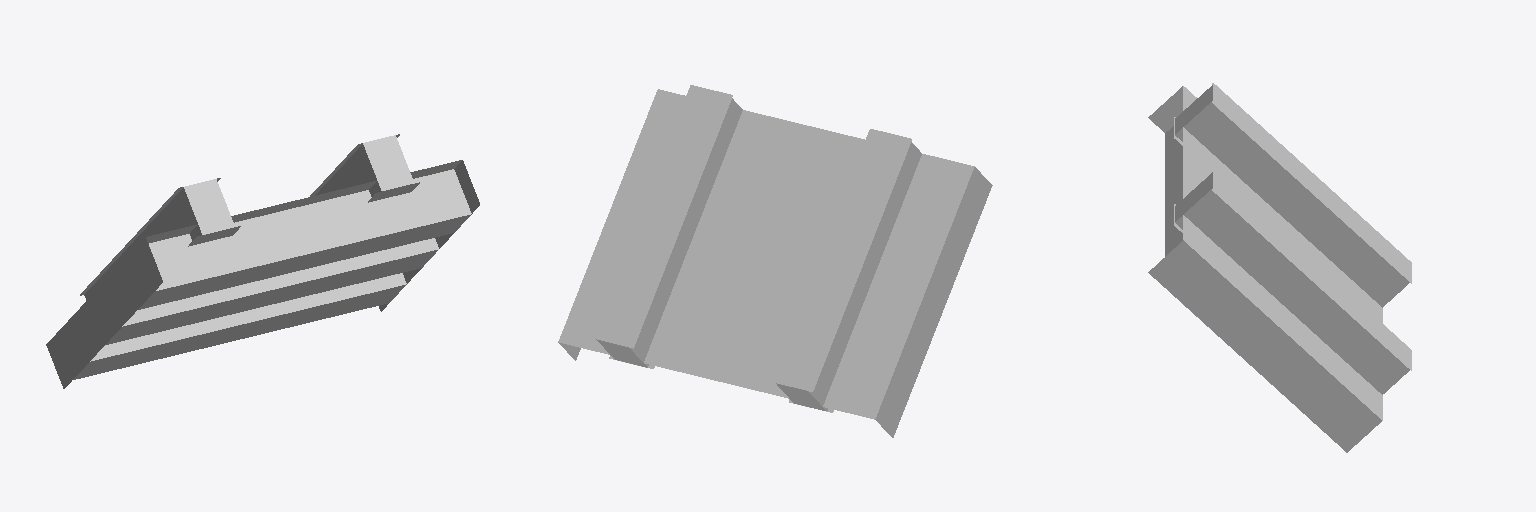
Rendered from ascending.obj.
3 renders of one model, left to right at view 1: azimuth 30°, elevation 25°; view 2: azimuth 150°, elevation 25°; view 3: azimuth 270°, elevation 25°, orthographic.
Visible parts, largest first — view 1: cube5, cube4, cube2, cube1, cube3, cube6, rail5, rail3, cube9, cube7, cube8, cube12; view 2: cube7, rail2, rail4, cube9, cube8, cube10, cube12, cube11, rail5, rail3; view 3: rail3, rail5, cube12, cube10, cube11, rail4, rail2, cube9, cube4, cube8, cube7, cube5.
Part boxes in pixels (bbox=[...]): cube5: bbox=[296, 169, 471, 270]; cube4: bbox=[138, 208, 312, 309]; cube2: bbox=[231, 273, 406, 341]; cube1: bbox=[265, 238, 438, 305]; cube3: bbox=[106, 277, 280, 344]; cube6: bbox=[73, 312, 247, 379]; rail5: bbox=[84, 179, 234, 300]; rail3: bbox=[315, 135, 414, 196]; cube9: bbox=[113, 199, 302, 318]; cube7: bbox=[46, 310, 97, 388]; cube8: bbox=[79, 273, 129, 351]; cube12: bbox=[297, 160, 479, 241]; cube7: bbox=[717, 293, 926, 437]; rail2: bbox=[591, 85, 732, 348]; rail4: bbox=[771, 129, 911, 391]; cube9: bbox=[784, 128, 992, 269]; cube8: bbox=[749, 210, 959, 350]; cube10: bbox=[558, 254, 750, 380]; cube12: bbox=[623, 89, 815, 212]; cube11: bbox=[593, 172, 783, 296]; rail5: bbox=[776, 142, 921, 410]; rail3: bbox=[596, 98, 742, 367]; rail3: bbox=[1175, 172, 1409, 394]; rail5: bbox=[1175, 85, 1409, 307]; cube12: bbox=[1148, 163, 1251, 333]; cube10: bbox=[1278, 336, 1382, 452]; cube11: bbox=[1213, 274, 1317, 392]; rail4: bbox=[1212, 83, 1411, 283]; rail2: bbox=[1212, 170, 1411, 370]; cube9: bbox=[1148, 86, 1247, 200]; cube4: bbox=[1165, 126, 1182, 210]; cube8: bbox=[1248, 186, 1317, 264]; cube7: bbox=[1315, 250, 1382, 322]; cube5: bbox=[1165, 195, 1182, 256].
Size of the model in its own units: 1.87 by 1.35 by 1.35.